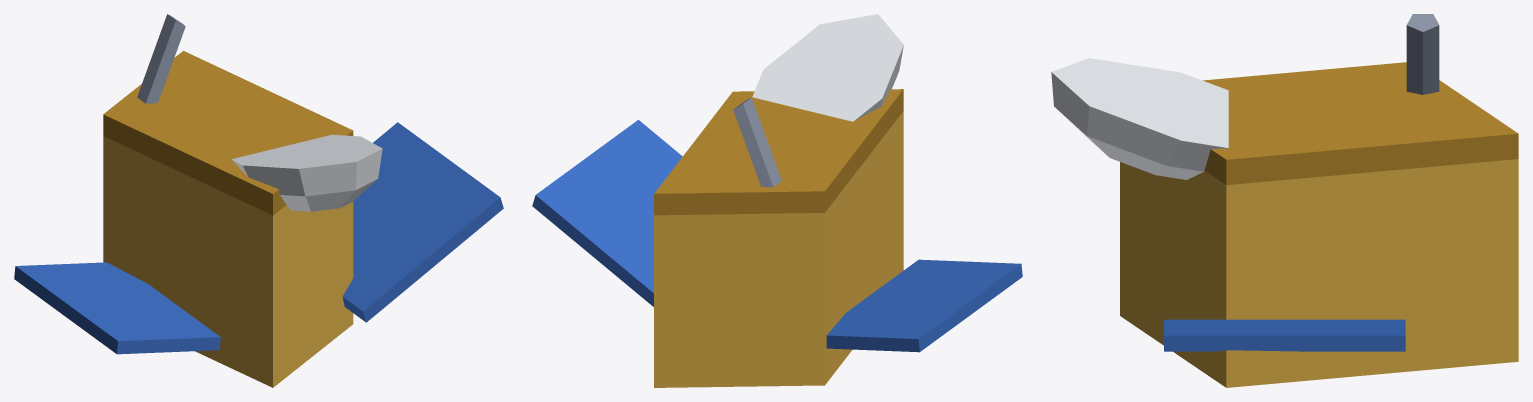
The model's file is env_r9_satellite_debris.glb.
The picture shows the model from 3 angles, left to right: view 1: azimuth 30°, elevation 25°; view 2: azimuth 150°, elevation 25°; view 3: azimuth 270°, elevation 25°; orthographic projection. The views are drawn at different scales.
Parts seen in each view (by area): view 1: env_r9_satellite_debris; view 2: env_r9_satellite_debris; view 3: env_r9_satellite_debris.
Boxes of the visible parts, x1,y1,x2,y2 form: env_r9_satellite_debris: [14, 14, 503, 387]; env_r9_satellite_debris: [532, 14, 1022, 387]; env_r9_satellite_debris: [1051, 14, 1518, 387].
Size of the model in its own units: 1.8 by 1.2 by 1.6.
Materials: 1 (1 with a texture image).
